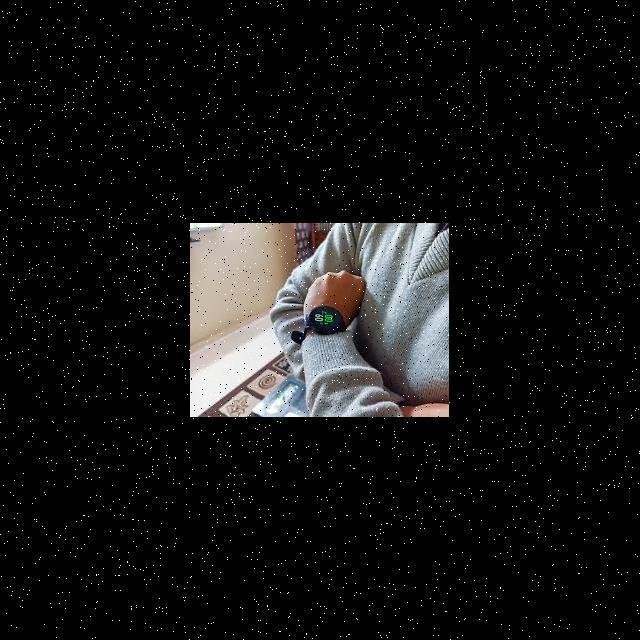watch: (285, 293, 355, 347)
